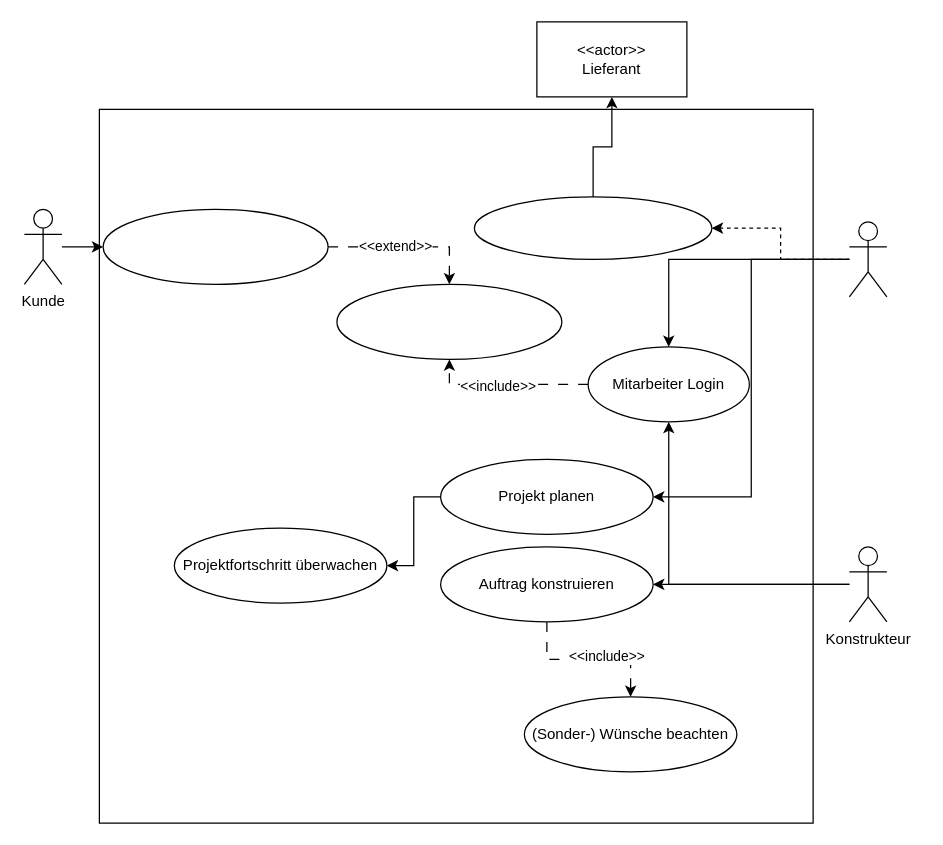
Some shapes in this 943 by 845 pixel diagram are drawn without their labels. Each missing label, with the centre of its shape:
"Authentifizierung" belongs at pixel 449 321.
"Benötigte Materialien bestellen" belongs at pixel 592 227.
"Kunden Login" belongs at pixel 215 246.
"Projektmanager" belongs at pixel 867 259.
